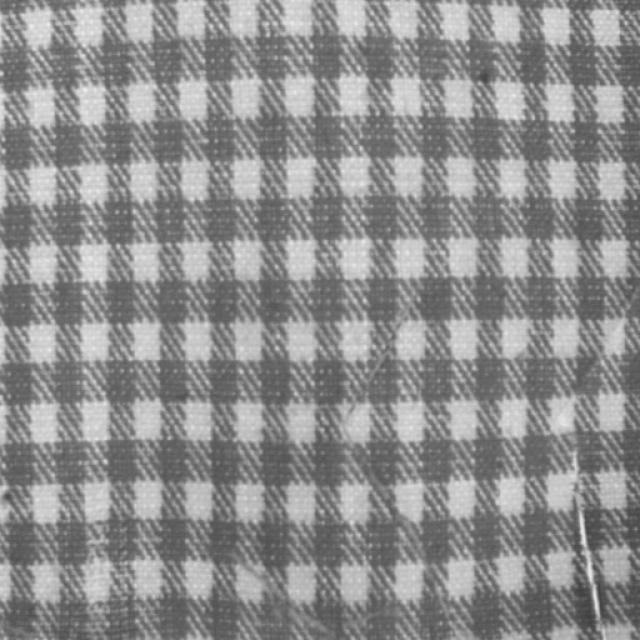Hole-Defect: (564, 441, 611, 637)
